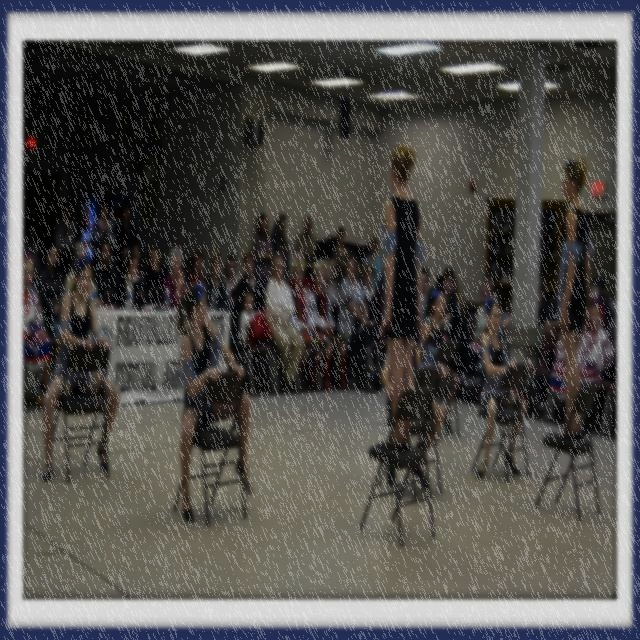pessoa: (176, 277, 256, 525), (40, 254, 122, 486), (376, 138, 426, 460), (546, 150, 592, 446), (472, 296, 532, 482), (381, 337, 446, 489), (416, 287, 459, 440), (336, 252, 379, 396), (264, 252, 306, 394), (289, 255, 325, 393), (23, 250, 53, 397), (322, 257, 349, 393), (579, 298, 614, 390), (232, 248, 266, 338), (550, 327, 582, 422), (322, 257, 346, 383), (38, 242, 66, 338), (64, 241, 104, 308), (238, 289, 277, 349), (470, 281, 492, 387), (112, 200, 141, 278), (362, 262, 382, 373), (254, 212, 274, 311), (442, 272, 468, 346), (111, 248, 142, 308), (92, 238, 119, 306), (54, 200, 76, 282), (162, 244, 189, 310), (90, 200, 116, 268), (203, 250, 230, 314), (292, 216, 317, 284), (144, 242, 170, 307), (489, 290, 512, 363), (582, 276, 606, 338), (270, 212, 290, 286), (428, 289, 446, 366), (440, 266, 458, 340), (287, 249, 314, 295), (361, 236, 383, 291), (333, 226, 350, 290), (222, 253, 242, 304), (128, 238, 146, 292), (24, 226, 41, 278), (480, 270, 501, 310), (537, 280, 546, 368), (188, 249, 206, 285), (603, 284, 616, 332), (420, 266, 430, 324), (492, 212, 512, 229), (494, 238, 513, 254), (355, 260, 362, 282), (492, 264, 498, 278)
